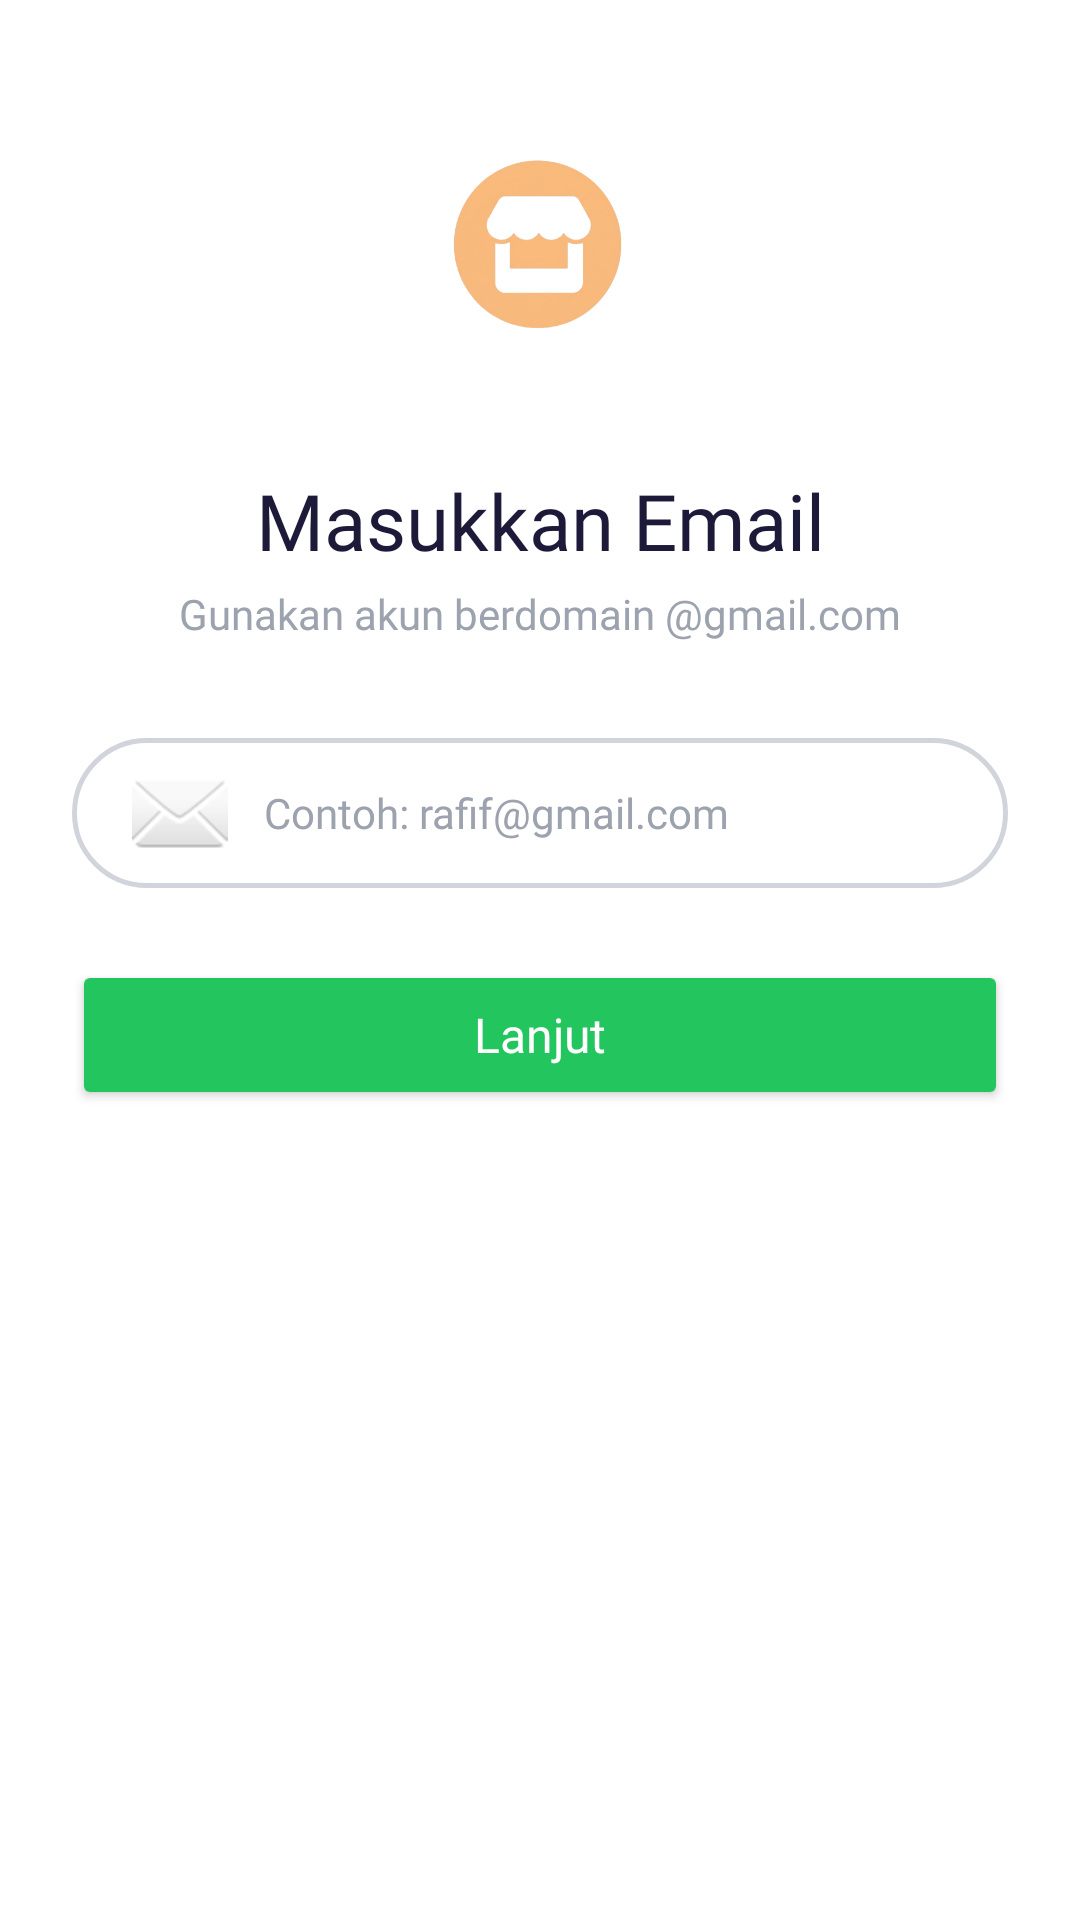

Named icons in this screenshot (1080x1920) and their centers, point (x, y):
umkm: point (537, 244)
